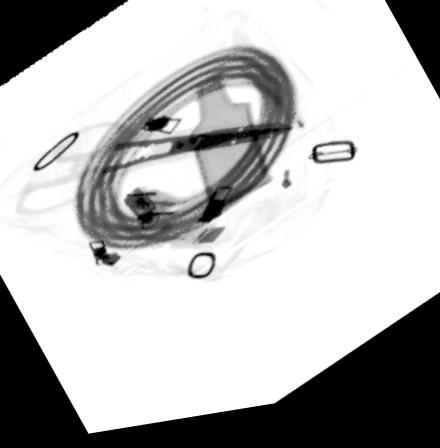Scissors: (12, 123, 290, 217)
